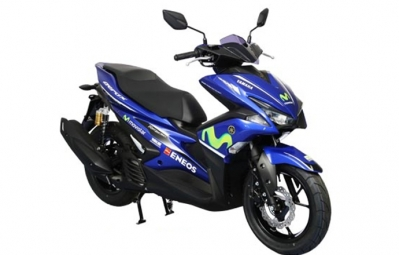motorcycle: (59, 33, 327, 254)
